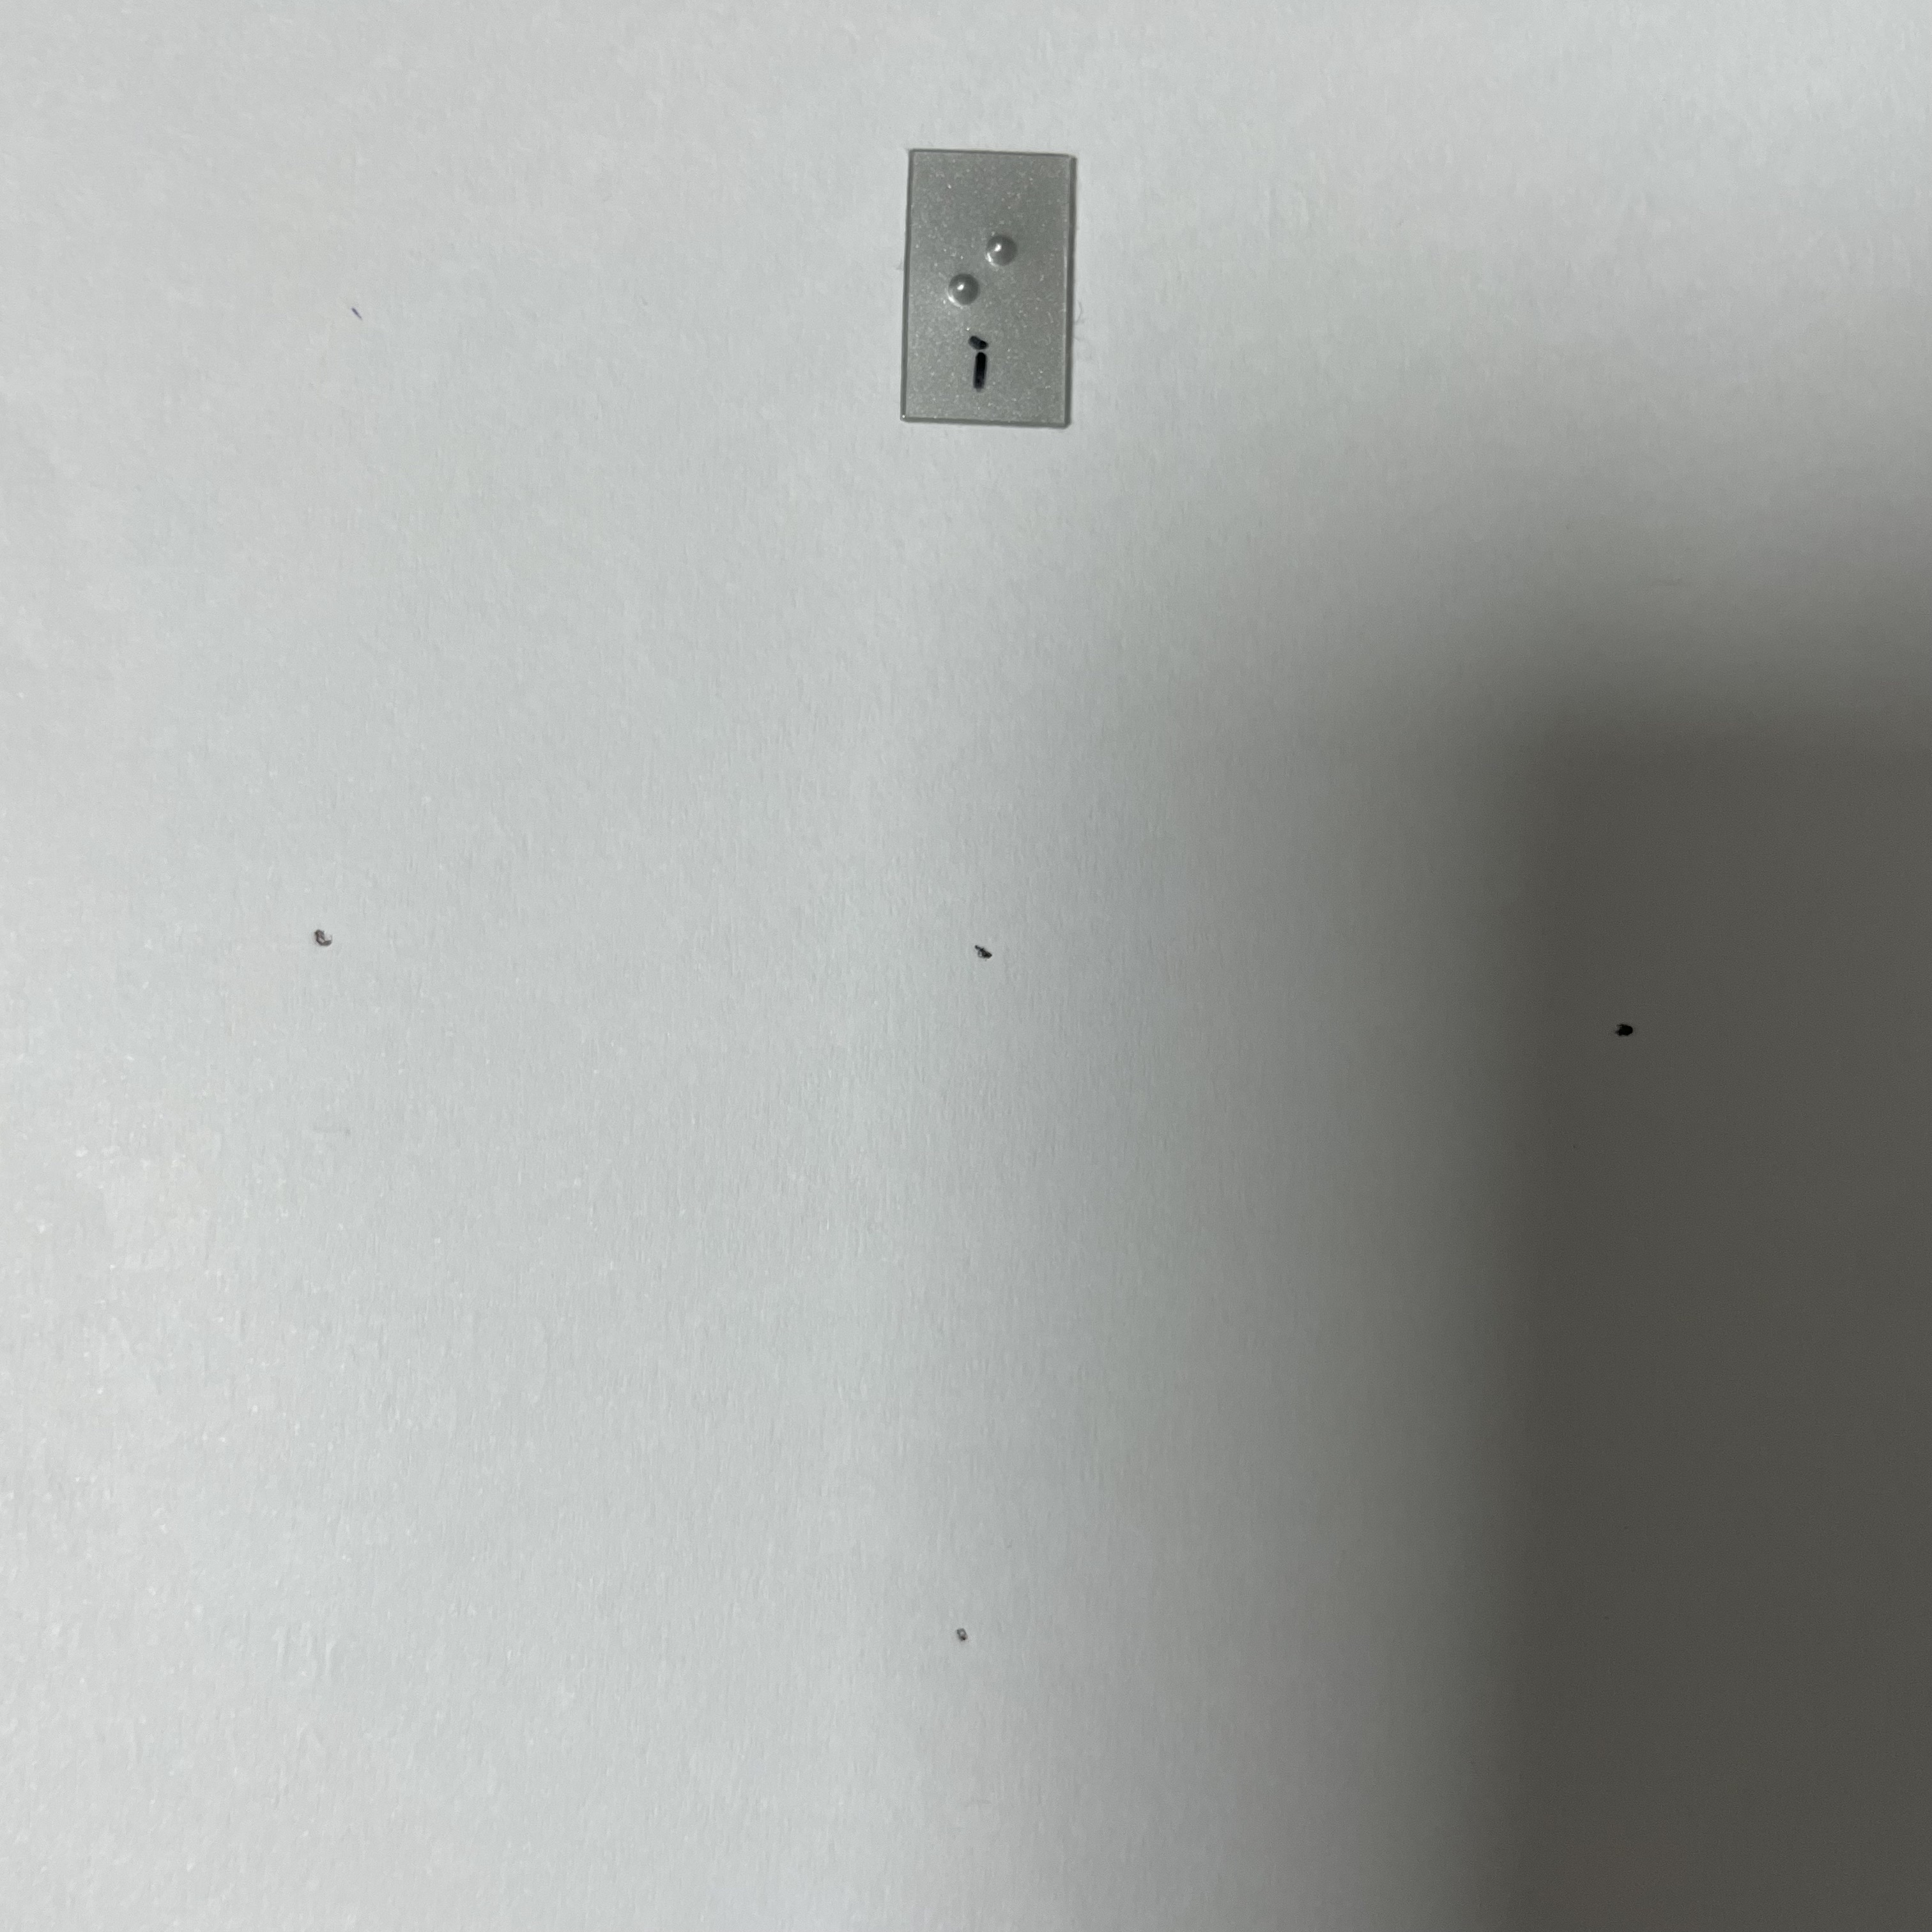i: (942, 215, 1027, 343)
